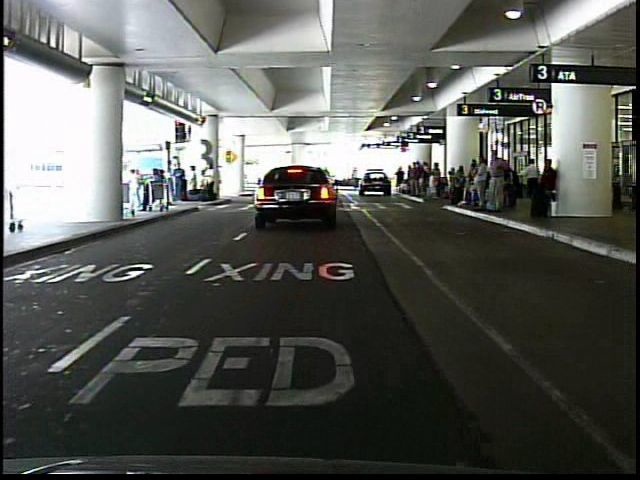person: (483, 144, 511, 218), (531, 152, 559, 224), (520, 154, 542, 204), (127, 164, 147, 219), (472, 151, 490, 209), (173, 155, 188, 203), (203, 159, 218, 199), (188, 162, 201, 202)
